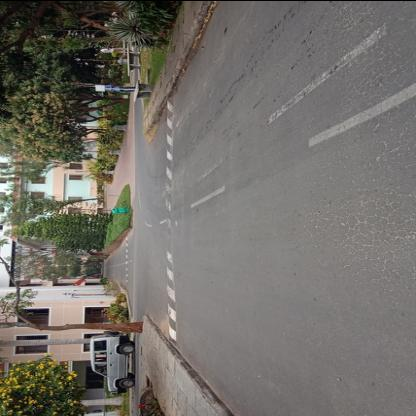speed-bumps: (158, 95, 180, 343), (121, 233, 133, 288)
